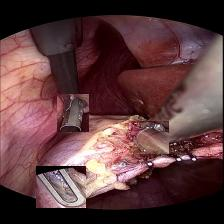Clipper: (129, 120, 169, 153)
Grasper: (36, 165, 86, 207), (57, 93, 89, 131)
